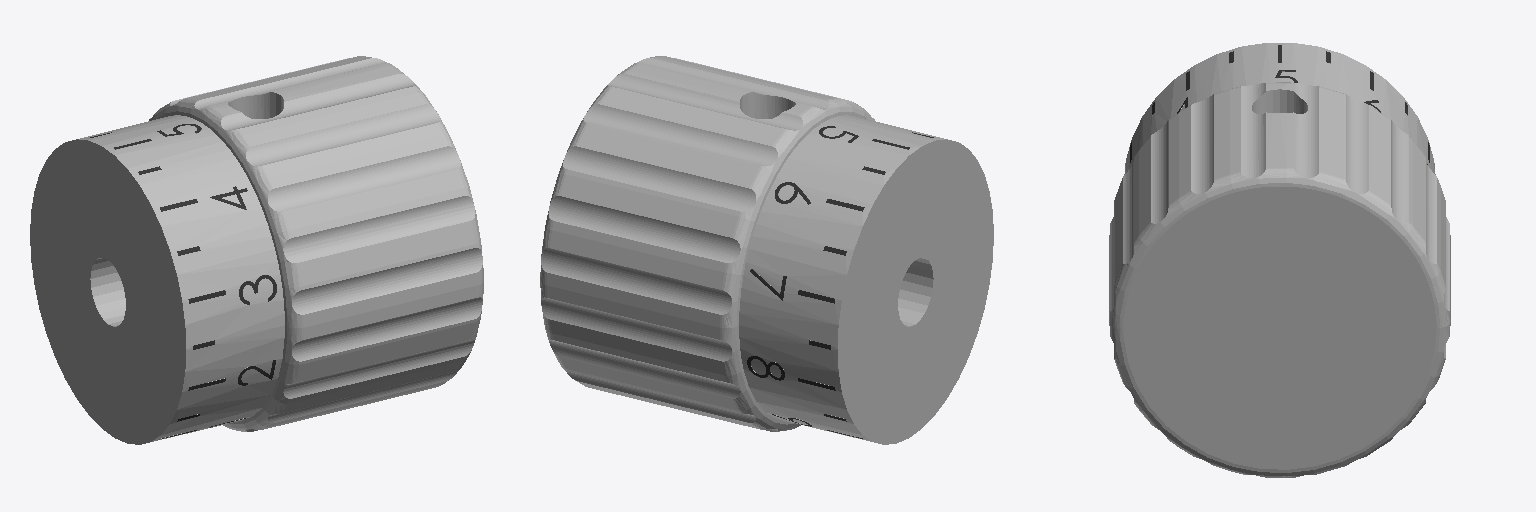
3 views of the same model, side by side, from view 1: azimuth 30°, elevation 25°; view 2: azimuth 150°, elevation 25°; view 3: azimuth 270°, elevation 25° (orthographic).
Parts seen in each view (by area): view 1: gn_436_1-24-b5-s-mt_1; view 2: gn_436_1-24-b5-s-mt_1; view 3: gn_436_1-24-b5-s-mt_1.
Boxes of the visible parts, box(x1,y1,x2,y2) form: gn_436_1-24-b5-s-mt_1: box(30, 56, 483, 444); gn_436_1-24-b5-s-mt_1: box(540, 56, 993, 444); gn_436_1-24-b5-s-mt_1: box(1109, 43, 1450, 477).
Bounding box in the file's own units: 24 × 23.99 × 24.